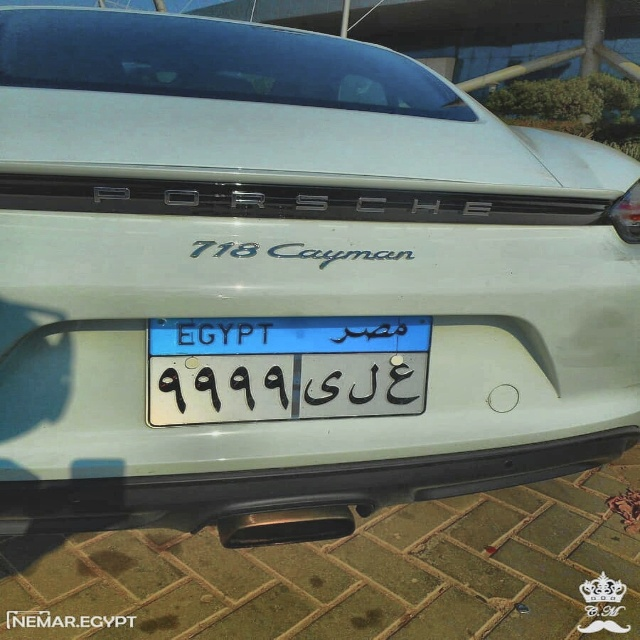License Plate: (141, 312, 436, 431)
